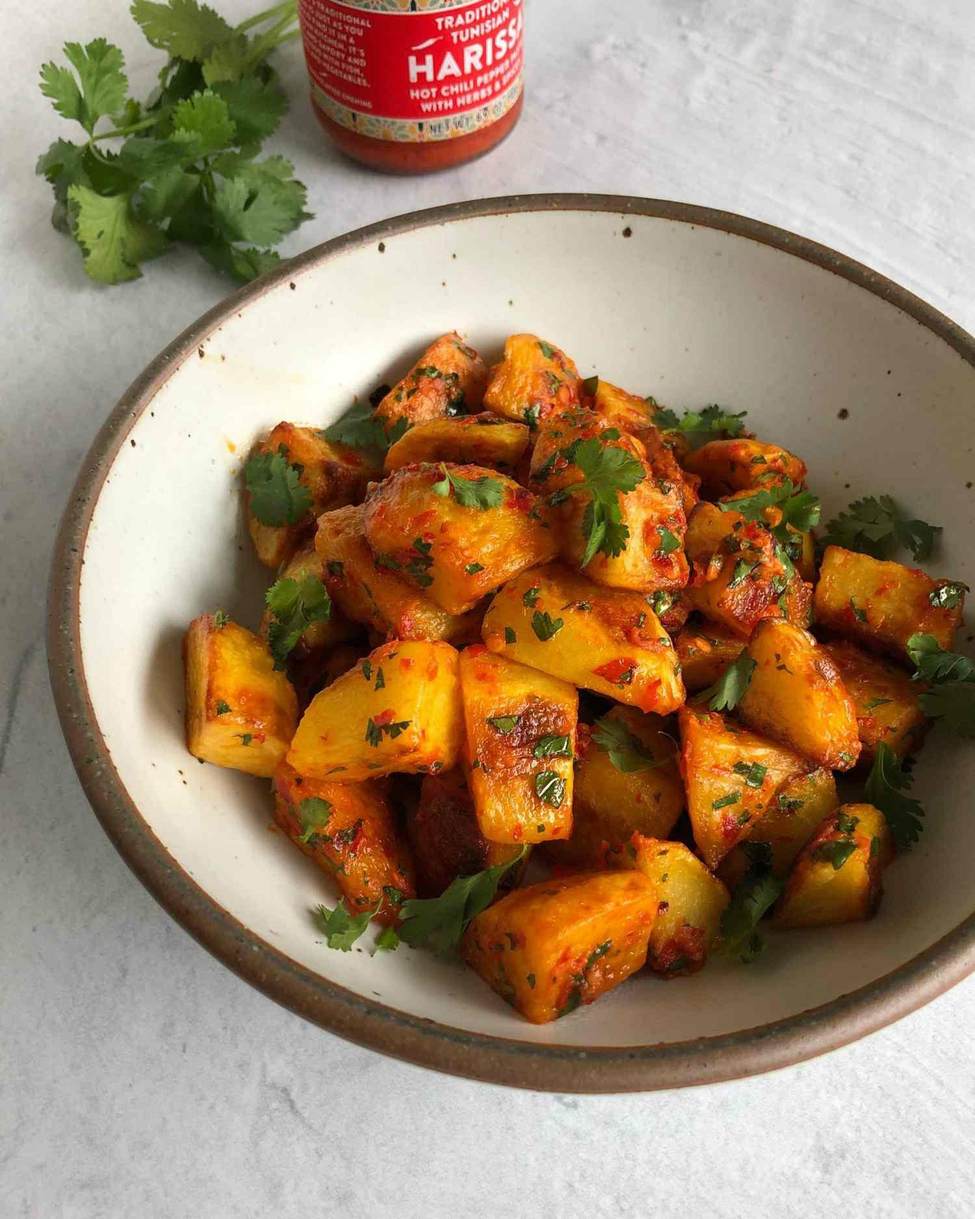AlooMasala: (177, 327, 975, 1025)
